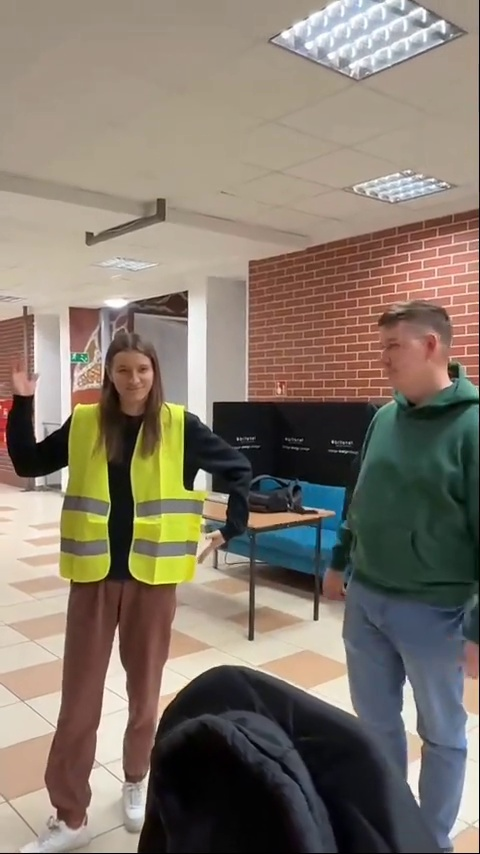no vest: (333, 304, 477, 822)
vest: (9, 328, 245, 854)
